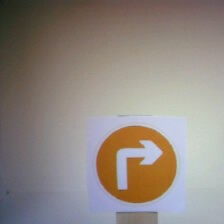right: (85, 114, 179, 212)
